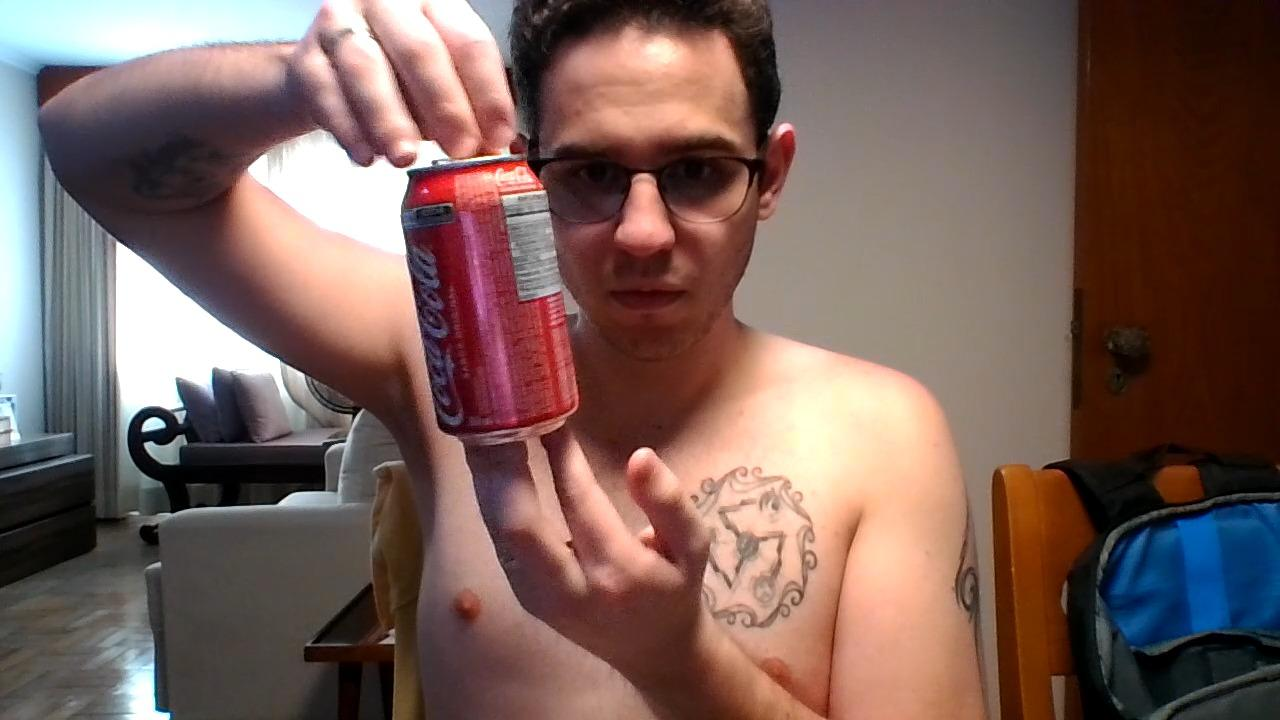coke: (403, 164, 573, 442)
